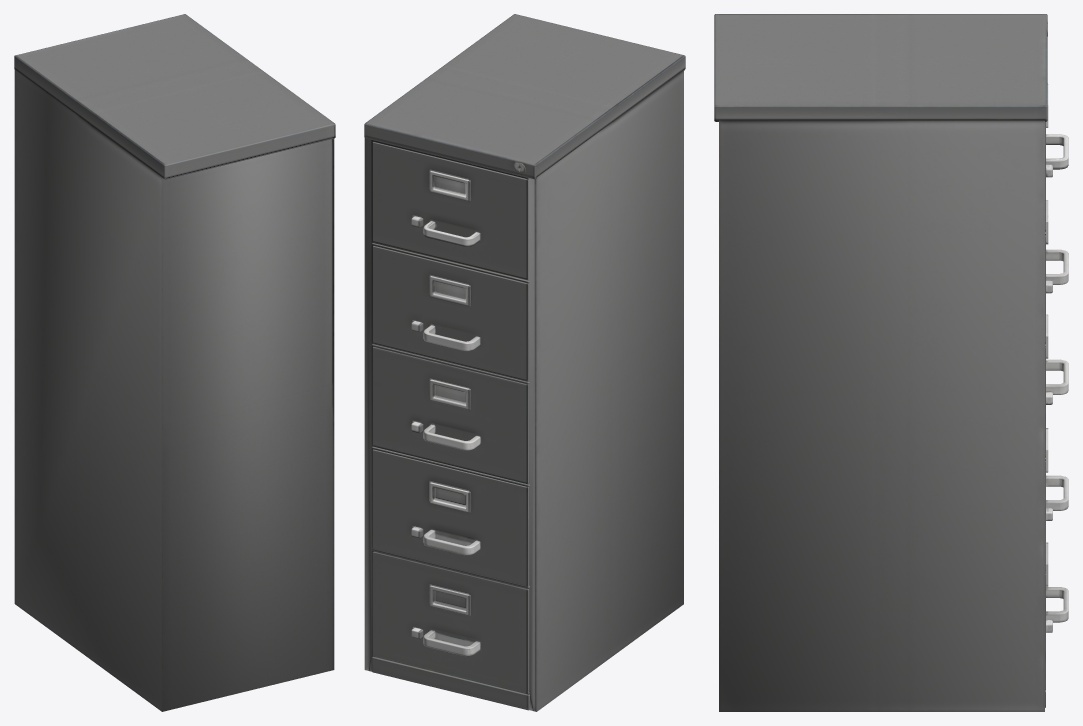
Rendered from OparetionRoom_AI_Prop.009.fbx.
The picture shows the model from 3 angles, left to right: view 1: azimuth 30°, elevation 25°; view 2: azimuth 150°, elevation 25°; view 3: azimuth 270°, elevation 25°; orthographic projection. The views are drawn at different scales.
Visible parts, largest first — view 1: OparetionRoom_AI_Prop.009; view 2: OparetionRoom_AI_Prop.009; view 3: OparetionRoom_AI_Prop.009.
Boxes of the visible parts, left/top/right/bottom form: OparetionRoom_AI_Prop.009: left=14, top=14, right=335, bottom=711; OparetionRoom_AI_Prop.009: left=364, top=14, right=685, bottom=711; OparetionRoom_AI_Prop.009: left=714, top=14, right=1068, bottom=711.
Bounding box in the file's own units: 76.24 × 232 × 123.
